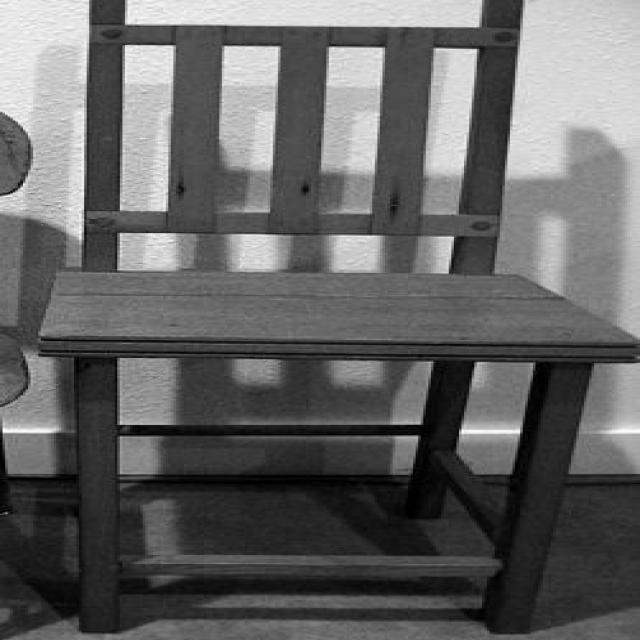chair: (39, 0, 638, 633)
